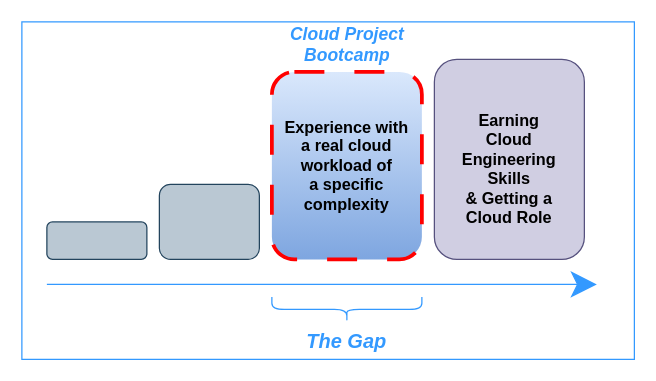
Image size: 656x381. Some labels were removed from this diagram. Each missing label, with the box of its shape:
A Certification: (46, 221, 147, 259)
Toy Projects: (158, 183, 259, 259)
